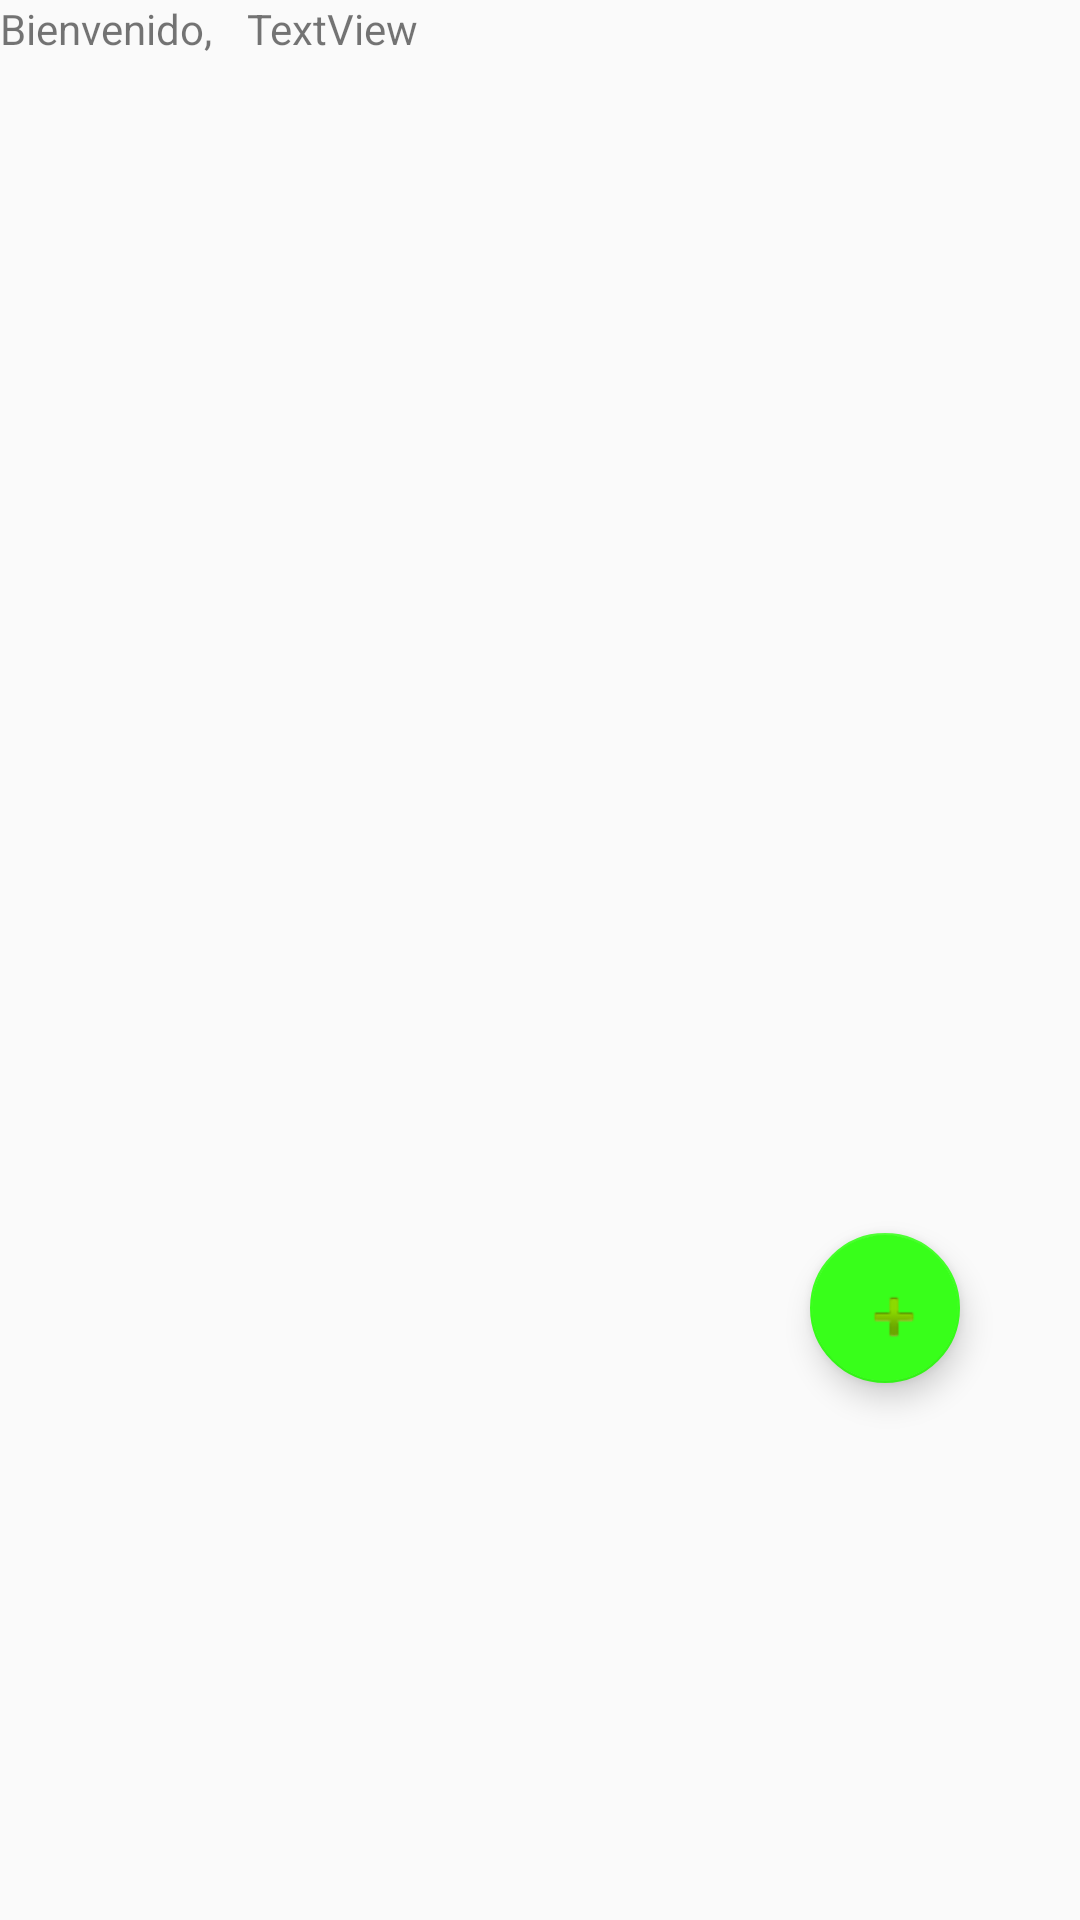

Named icons in this screenshot (1080 × 1920) and their bounding boxes, (x1, y1, x2, y2):
add: (810, 1233, 960, 1383)
